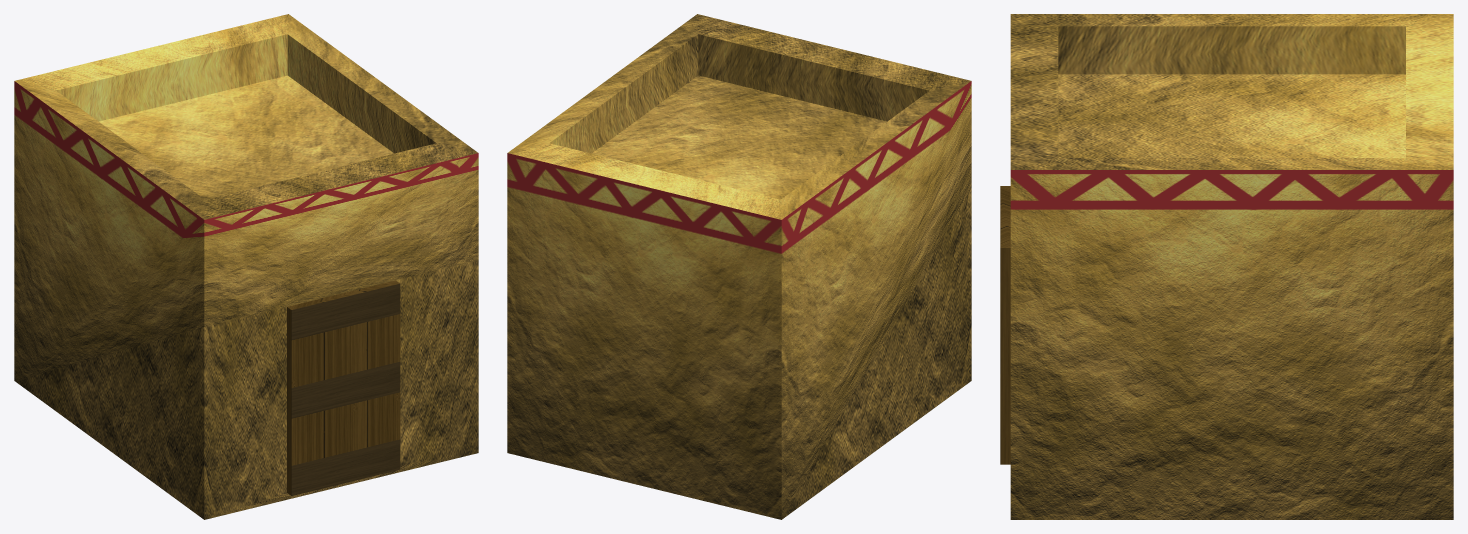
Rendered from Building3.fbx.
3 renders of one model, left to right at view 1: azimuth 30°, elevation 25°; view 2: azimuth 150°, elevation 25°; view 3: azimuth 270°, elevation 25°, orthographic. The views are drawn at different scales.
Parts seen in each view (by area): view 1: pCube2; view 2: pCube2; view 3: pCube2.
Part boxes in pixels (x1,y1,x2,y2): pCube2: (14,14,478,519); pCube2: (507,14,971,519); pCube2: (1000,14,1453,519).
Size of the model in its own units: 3.62 by 3.78 by 4.45.
